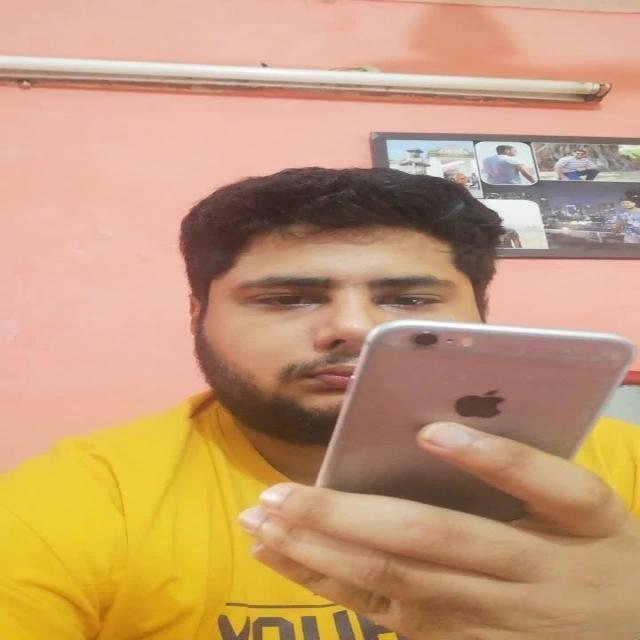Phone: (318, 320, 636, 508)
